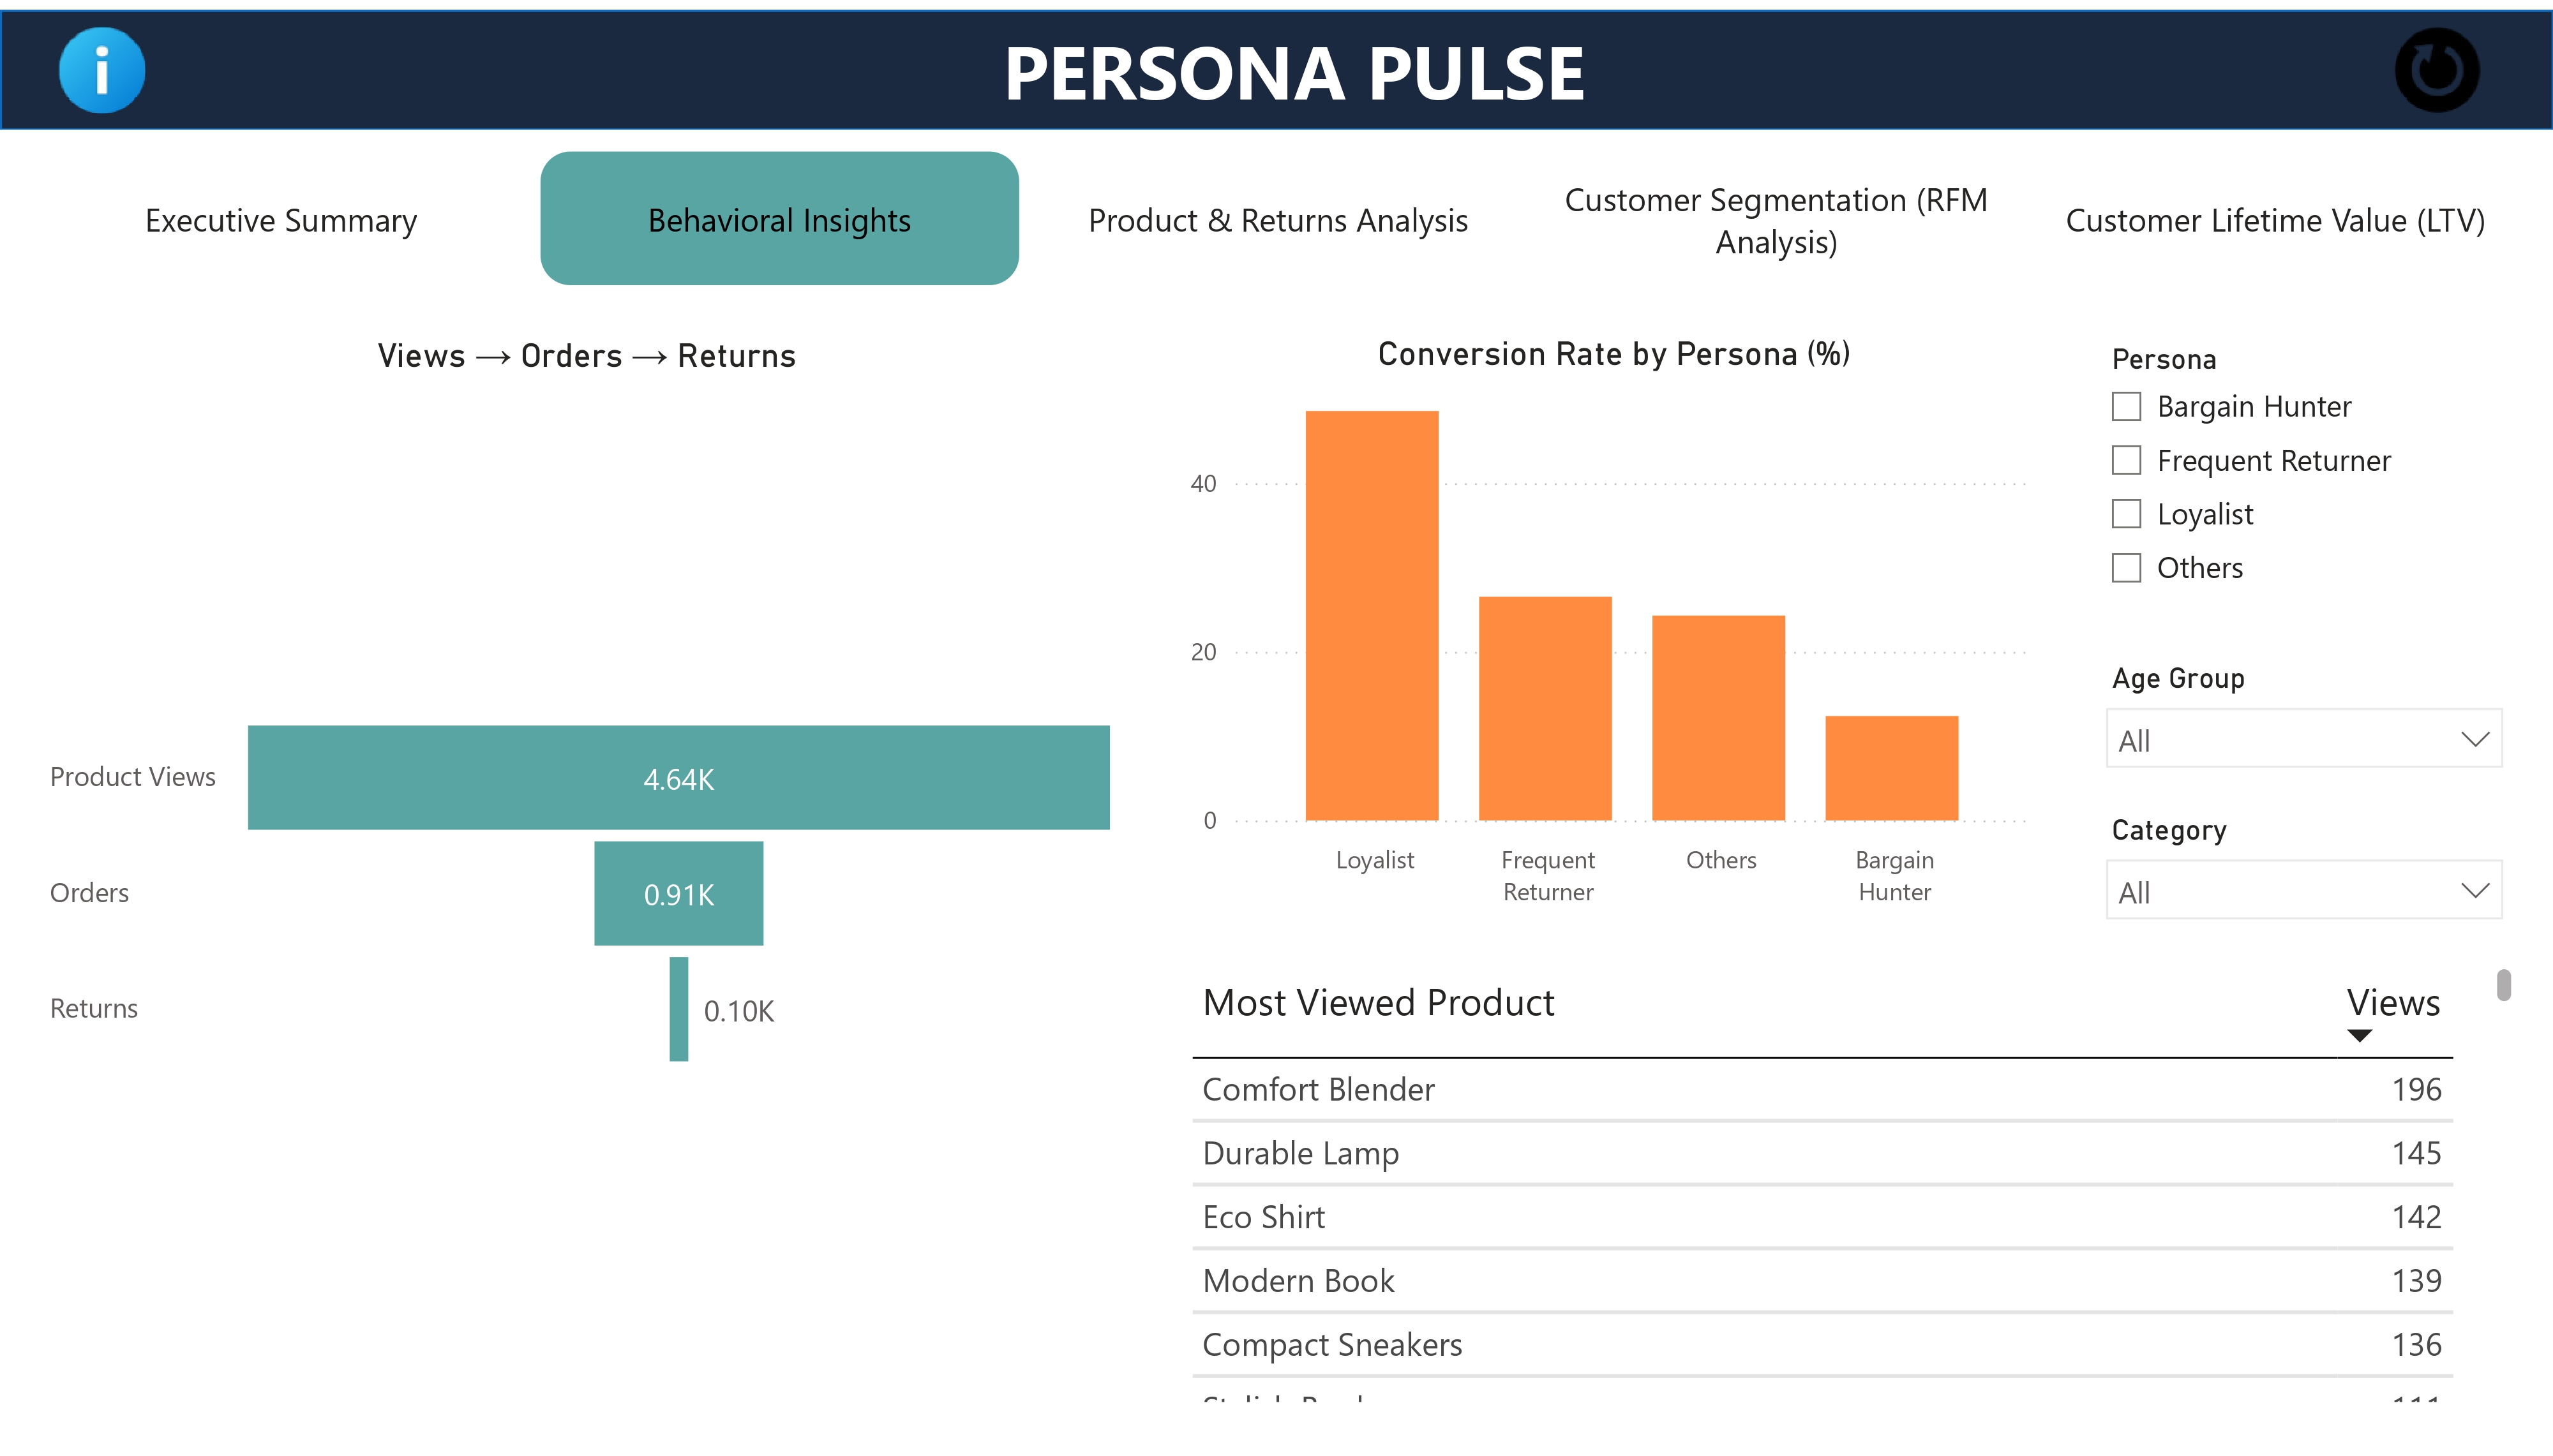

The page's visual inventory and layout, read from the dashboard file:
{"tool":"powerbi","page":{"name":"Behavioral Insights","canvas":[1280,720],"ordinal":1},"visuals":[{"type":"funnel","title":"Views → Orders → Returns","fields":{"Category":["FunnelStages.Stage"],"Y":["FunnelStages.Funnel Value"]},"box":[13.7,156.4,558.5,553],"z":0},{"type":"columnChart","title":"Conversion Rate by Persona (%)","fields":{"Category":["users.persona"],"Y":["orders.Conversion Rate (%)"]},"box":[585.9,156.4,444.6,307.4],"z":1000},{"type":"tableEx","fields":{"Values":["products.name","product_views.product_id"]},"box":[585.9,469.3,684.7,240.1],"z":2000},{"type":"slicer","fields":{"Values":["users.persona"]},"box":[1040.1,156.4,230.5,153.7],"z":3000},{"type":"slicer","fields":{"Values":["users.Age Group"]},"box":[1040.1,315.6,230.5,71.4],"z":4000},{"type":"slicer","fields":{"Values":["products.category"]},"box":[1040.1,392.5,230.5,71.4],"z":5000},{"type":"shape","box":[0,0,1280.3,60.4],"z":6000},{"type":"textbox","box":[374.6,0,547.5,60.4],"z":7000},{"type":"pageNavigator","box":[20.6,71.4,1243.2,67.2],"z":8000},{"type":"actionButton","box":[1181.5,0,82.3,60.4],"z":9000},{"type":"actionButton","box":[20.6,0,64.5,60.4],"z":9001}]}

Visuals, with their boxes in screenshot pixels (x1, y1, x2, y2), scaled from the page's 1280x720 canvas onto the 2553x1456 screenshot:
"Views → Orders → Returns" funnel: 27/316/1141/1434
"Conversion Rate by Persona (%)" columnChart: 1169/316/2055/938
tableEx - products.name x product_views.product_id: 1169/949/2534/1434
slicer - users.persona: 2074/316/2534/627
slicer - users.Age Group: 2074/638/2534/783
slicer - products.category: 2074/794/2534/938
shape: 0/0/2552/122
textbox: 747/0/1839/122
pageNavigator: 41/144/2520/280
actionButton: 2356/0/2520/122
actionButton: 41/0/170/122
